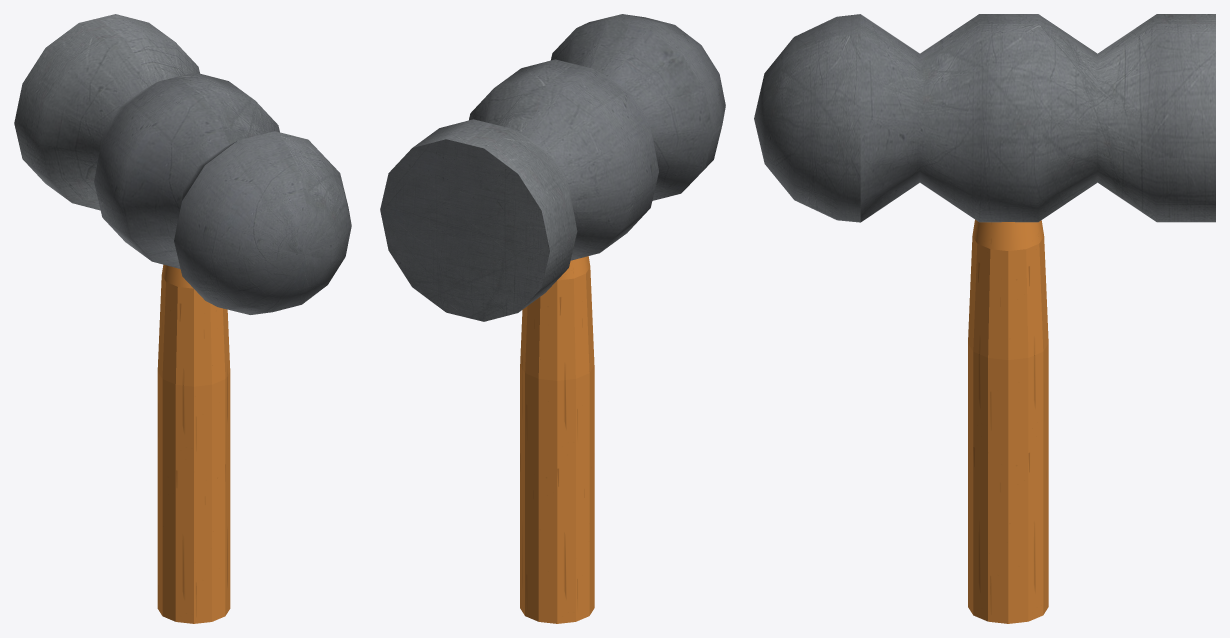
File: WaxWorld_Hammer.fbx
3 renders of one model, left to right at view 1: azimuth 30°, elevation 25°; view 2: azimuth 150°, elevation 25°; view 3: azimuth 270°, elevation 25°, orthographic. The views are drawn at different scales.
Visible parts, largest first — view 1: Sphere001, Cylinder001; view 2: Sphere001, Cylinder001; view 3: Sphere001, Cylinder001.
Boxes of the visible parts, x1,y1,x2,y2 form: Sphere001: (14, 14, 351, 314); Cylinder001: (157, 264, 230, 623); Sphere001: (380, 14, 725, 321); Cylinder001: (520, 256, 594, 623); Sphere001: (754, 14, 1215, 222); Cylinder001: (968, 219, 1048, 623).
Bounding box in the file's own units: 62.21 × 187 × 135.
2 materials, 2 textured.
